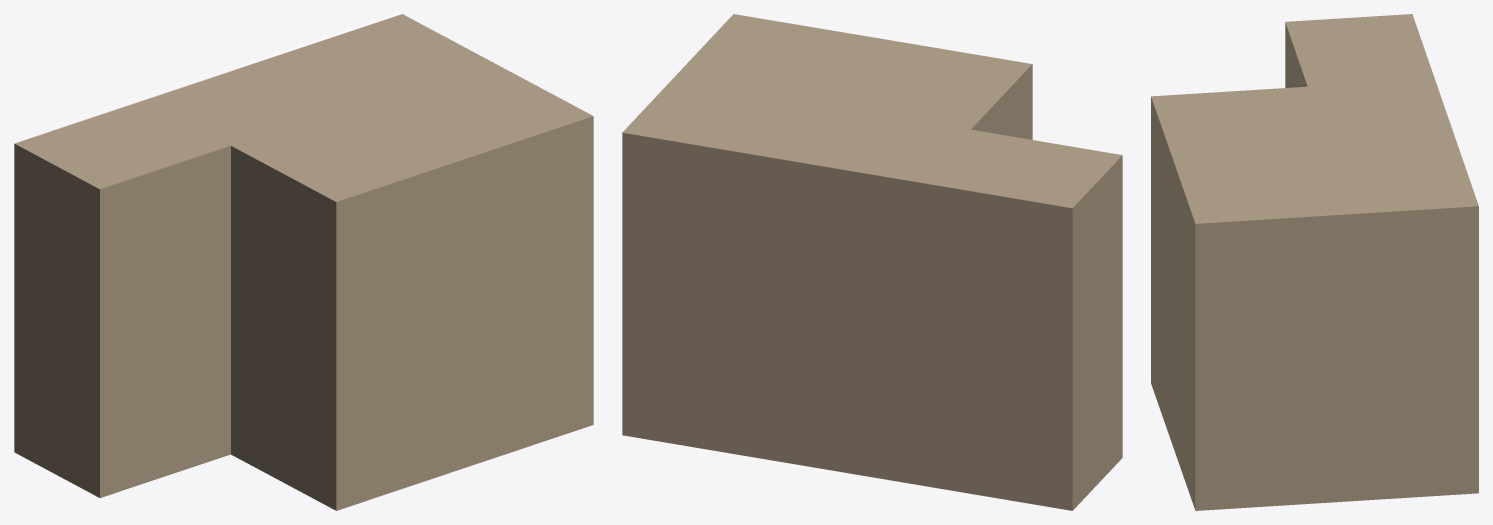
File: bld_100469307.dae
3 views of the same model, side by side, from view 1: azimuth 30°, elevation 25°; view 2: azimuth 150°, elevation 25°; view 3: azimuth 270°, elevation 25° (orthographic). The views are drawn at different scales.
Visible parts, largest first — view 1: bld_100469307; view 2: bld_100469307; view 3: bld_100469307.
Part boxes in pixels (bbox=[...]): bld_100469307: bbox=[14, 14, 593, 510]; bld_100469307: bbox=[622, 14, 1122, 510]; bld_100469307: bbox=[1151, 14, 1478, 510].
Size of the model in its own units: 12.54 by 8.28 by 8.
